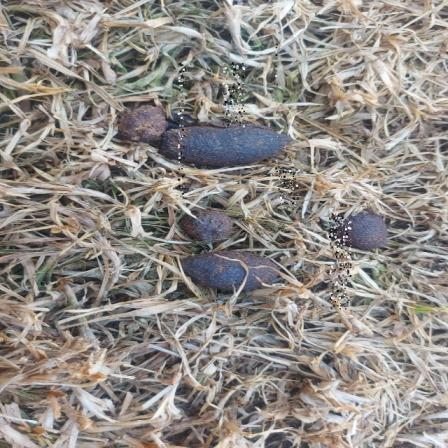dog-poop: (120, 92, 306, 166), (182, 204, 280, 293), (318, 200, 397, 262)
